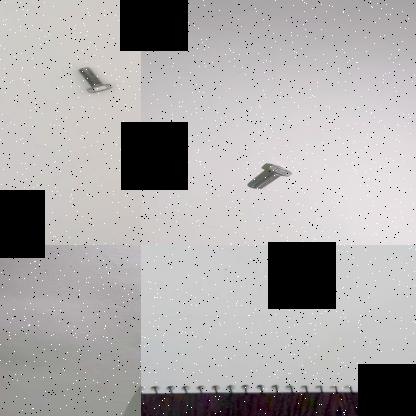Bolts: (242, 161, 298, 194), (74, 64, 115, 96)
